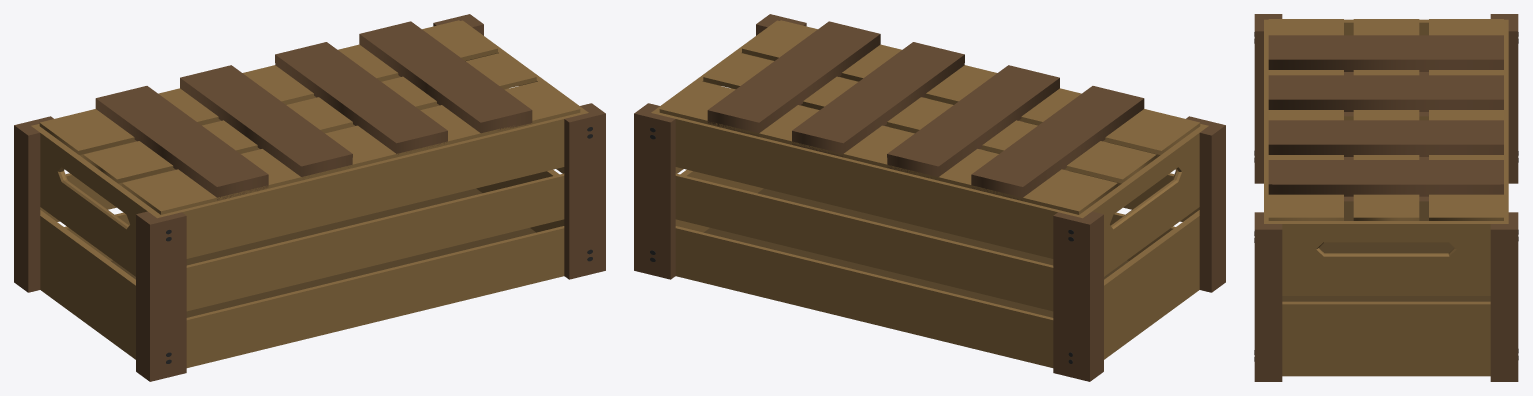
File: woodenbox2.fbx
The picture shows the model from 3 angles, left to right: view 1: azimuth 30°, elevation 25°; view 2: azimuth 150°, elevation 25°; view 3: azimuth 270°, elevation 25°; orthographic projection. The views are drawn at different scales.
Parts seen in each view (by area): view 1: ONE WOODEN BOX; view 2: ONE WOODEN BOX; view 3: ONE WOODEN BOX.
Boxes of the visible parts, x1,y1,x2,y2 form: ONE WOODEN BOX: [14, 14, 605, 381]; ONE WOODEN BOX: [634, 14, 1225, 381]; ONE WOODEN BOX: [1254, 14, 1518, 381].
Bounding box in the file's own units: 54 × 19.41 × 27.98.
